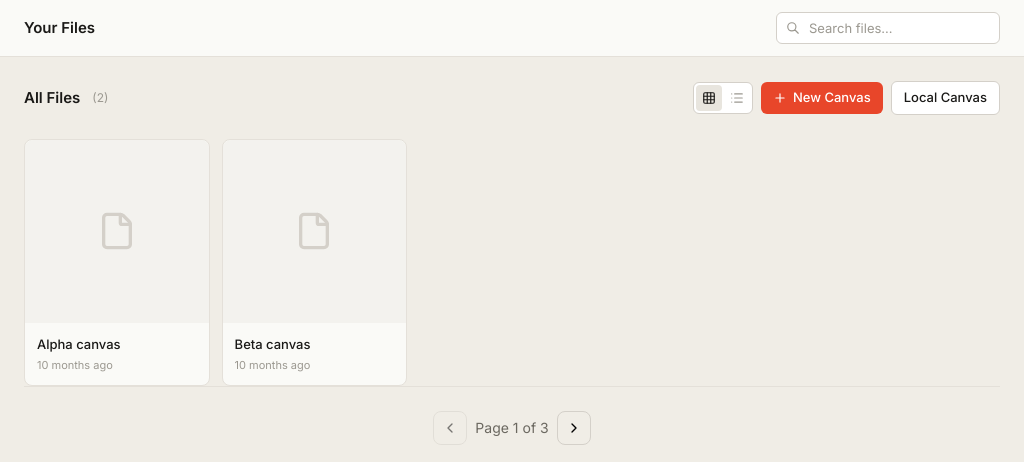
Test: DashboardFiles — pagination › advances the indicator and the rows together
Click the 6th button: (574, 428) [557,411,591,445]
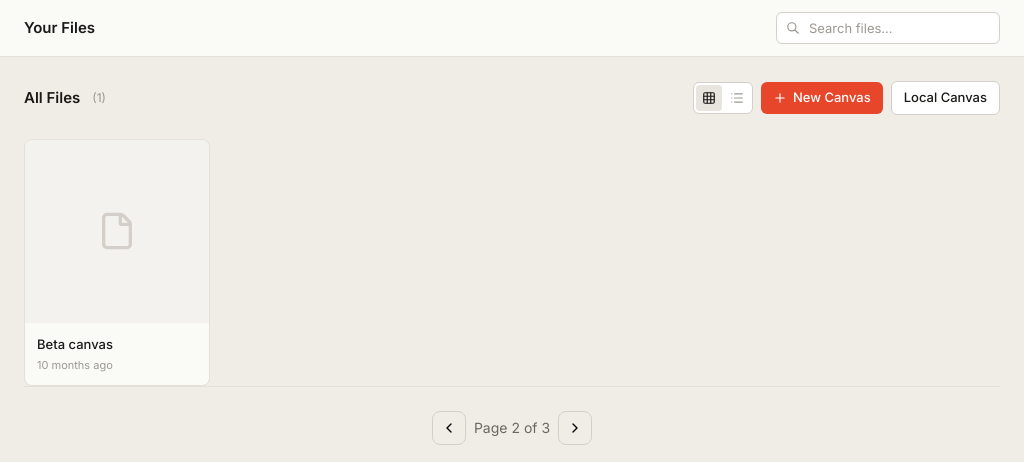
Expected: the link "Beta canvas" is shown, [24,138,210,386]
Result: the text "Page 2 of 3" is shown at [474,418,550,438]
Result: the link "Alpha canvas" is gone
